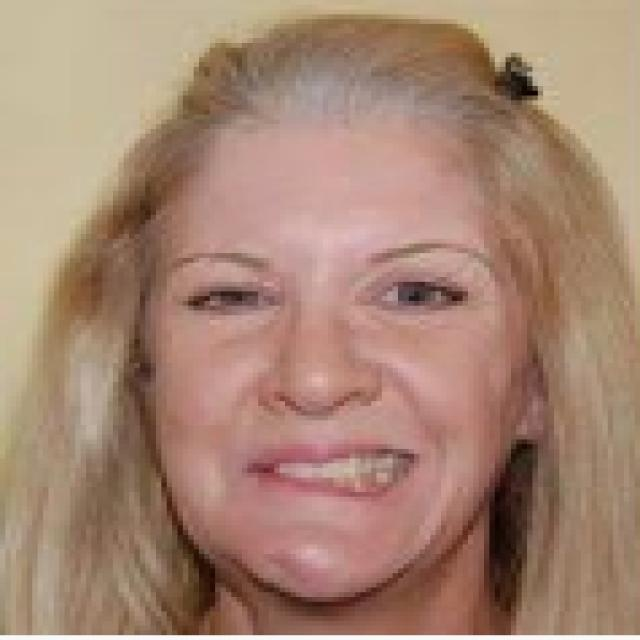stroke_face: (160, 109, 542, 604)
